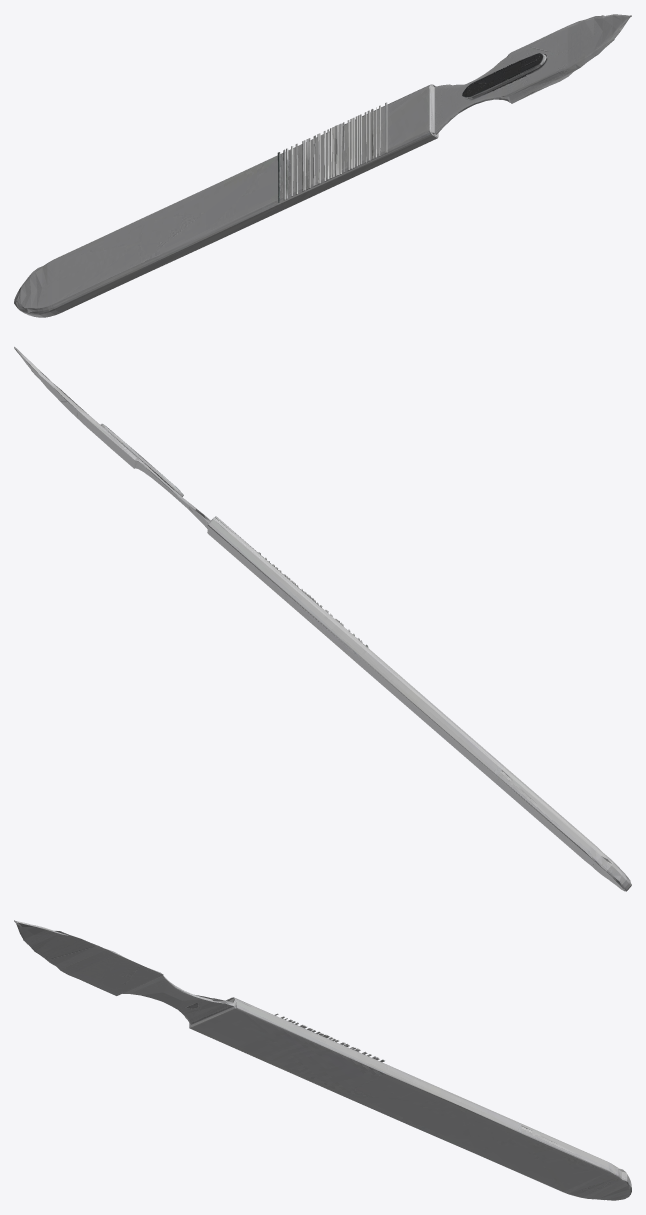
The model's file is ewm_scalpel.glb.
3 renders of one model, top to bottom at view 1: azimuth 30°, elevation 25°; view 2: azimuth 210°, elevation 25°; view 3: azimuth 270°, elevation 25°, orthographic. The views are drawn at different scales.
Visible parts, largest first — view 1: ewm_scalpel; view 2: ewm_scalpel; view 3: ewm_scalpel.
Boxes of the visible parts, bbox=[...] form: ewm_scalpel: bbox=[14, 14, 631, 317]; ewm_scalpel: bbox=[14, 346, 631, 891]; ewm_scalpel: bbox=[14, 920, 631, 1200].
Size of the model in its own units: 0.0757 by 0.0901 by 0.1112.
1 material, 1 textured.
